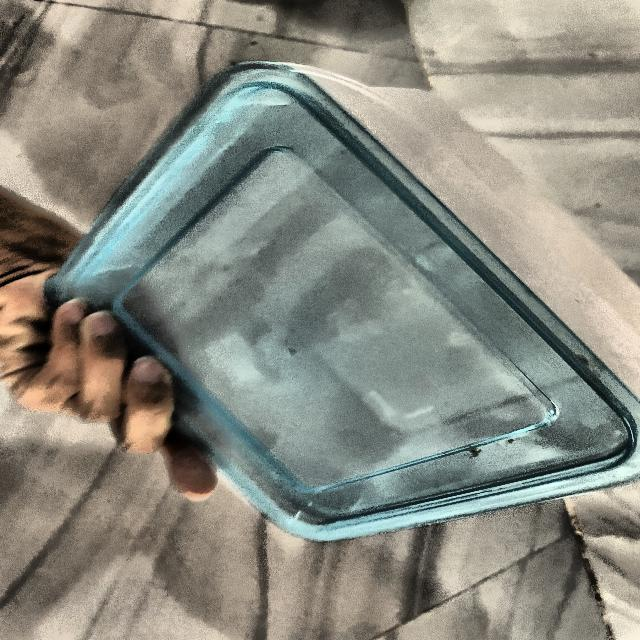plastic container: (62, 64, 588, 539)
